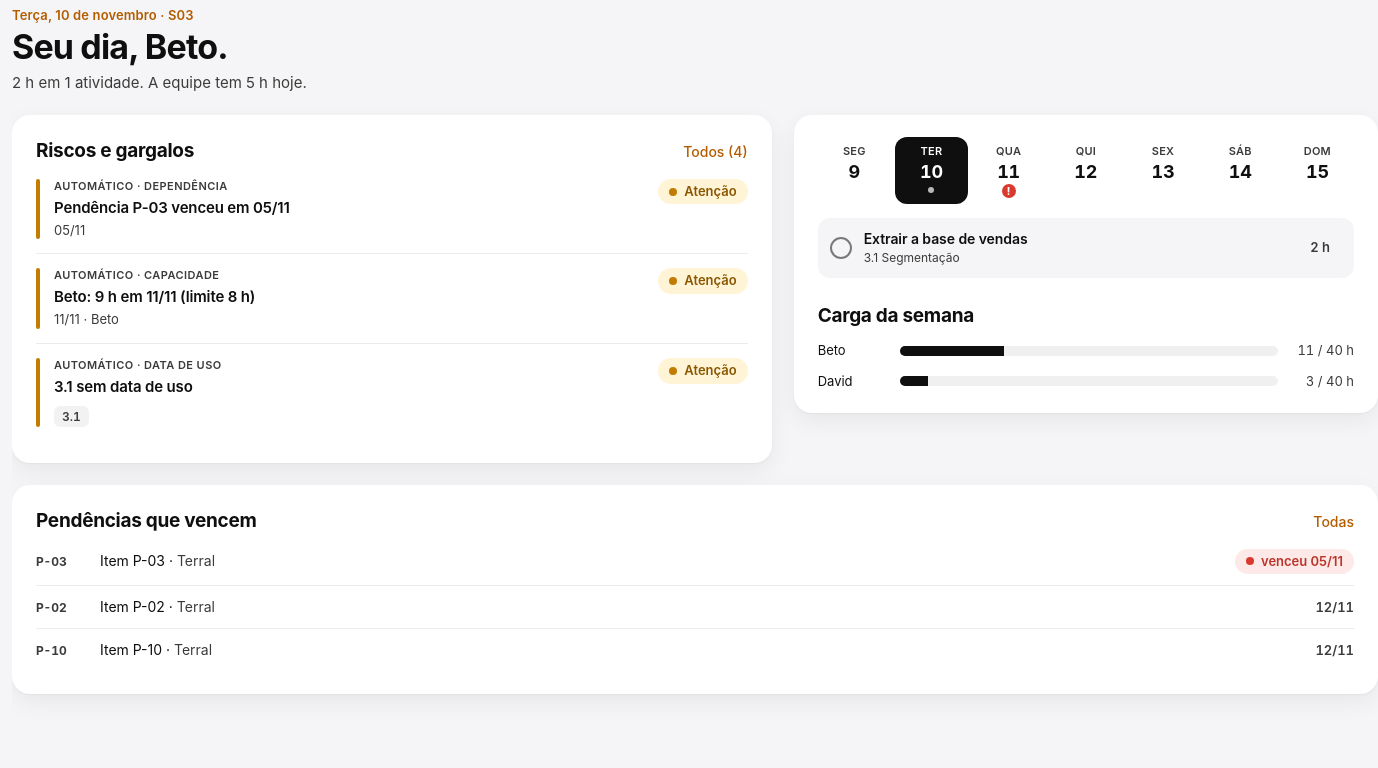
Scenario: Hoje › a tap ticks at once, saves done + done_at, and offers "Desfazer"
Press the mouse on the checkbox named "Extrair a base de vendas": (841, 248) top-left (830, 237), bottom-right (852, 259)
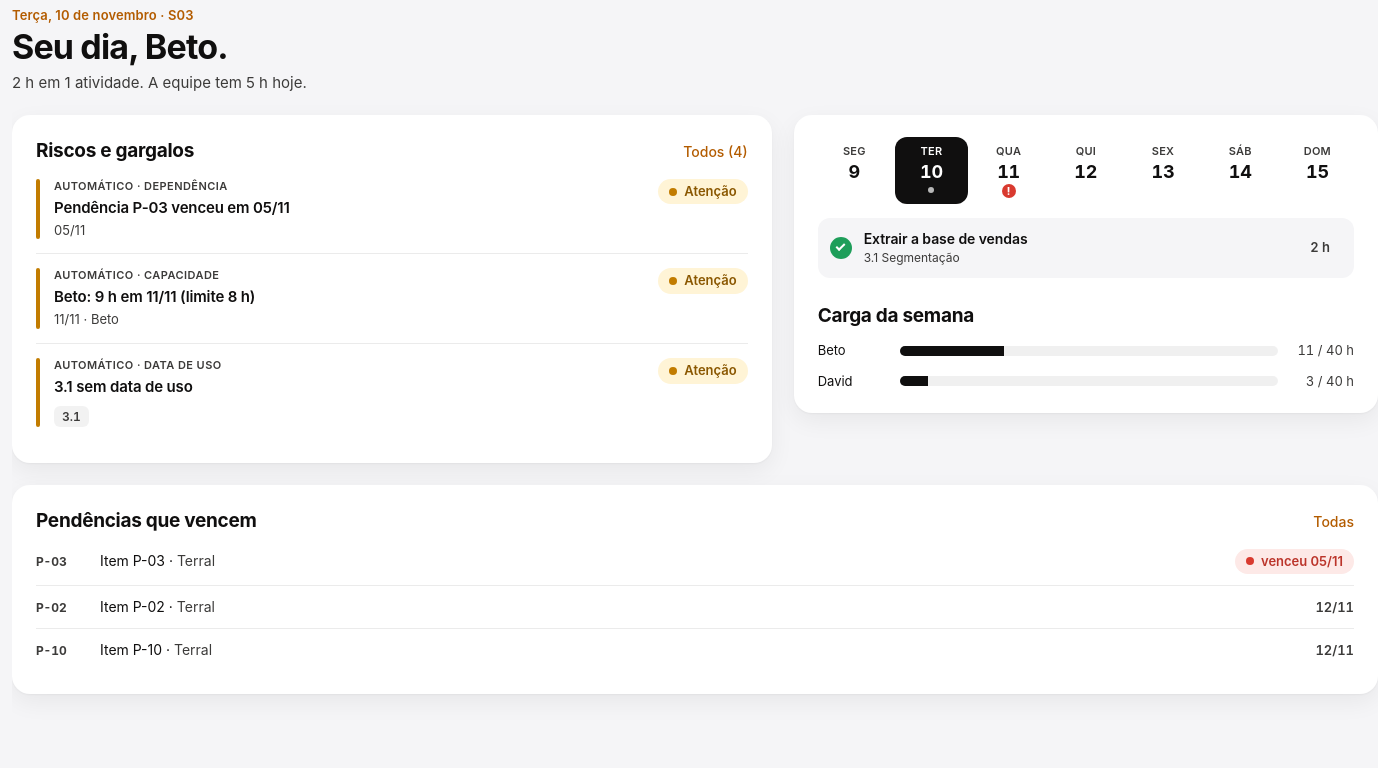
Click the checkbox named "Extrair a base de vendas": (841, 248) top-left (830, 237), bottom-right (852, 259)
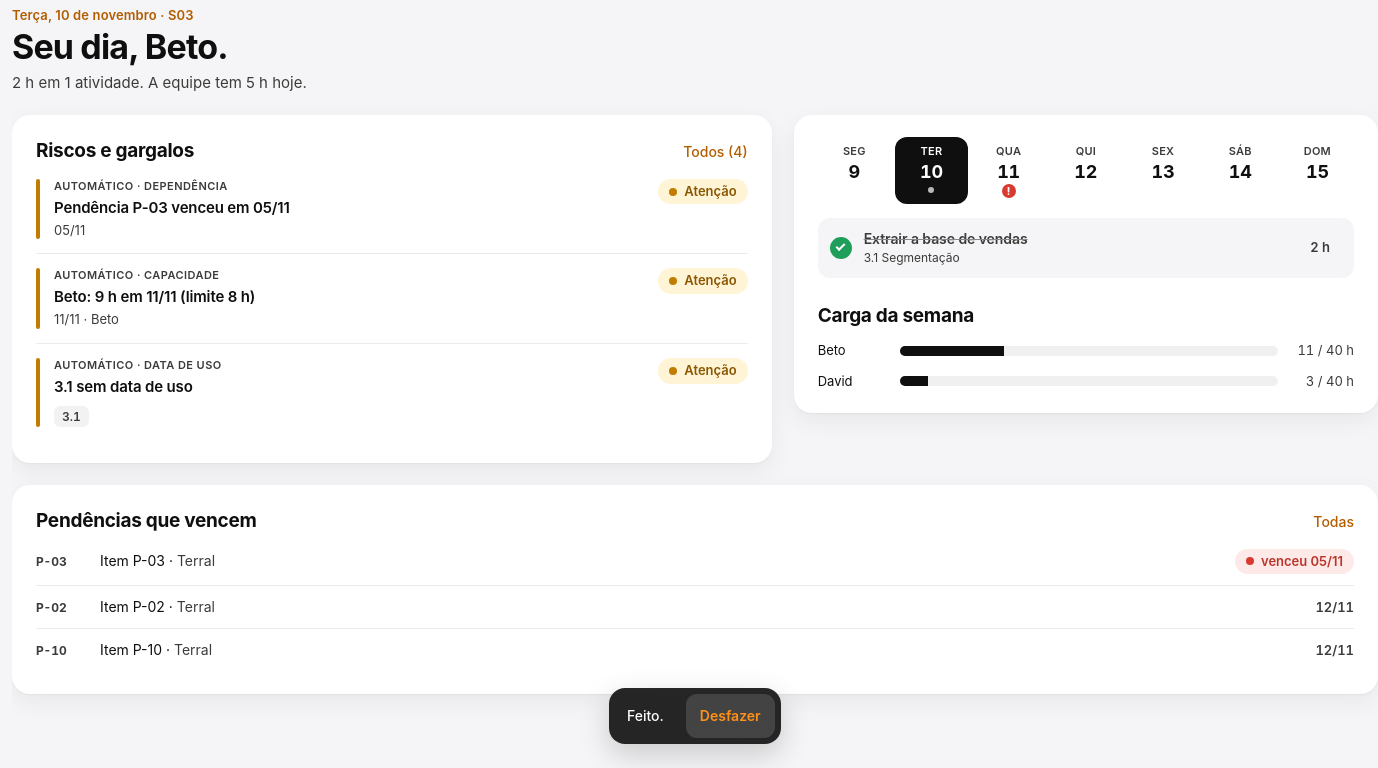
expect the checkbox named "Extrair a base de vendas" is checked: met, box top-left (830, 237), bottom-right (852, 259)
expect the button "Desfazer" is shown: met, box top-left (686, 694), bottom-right (775, 738)
